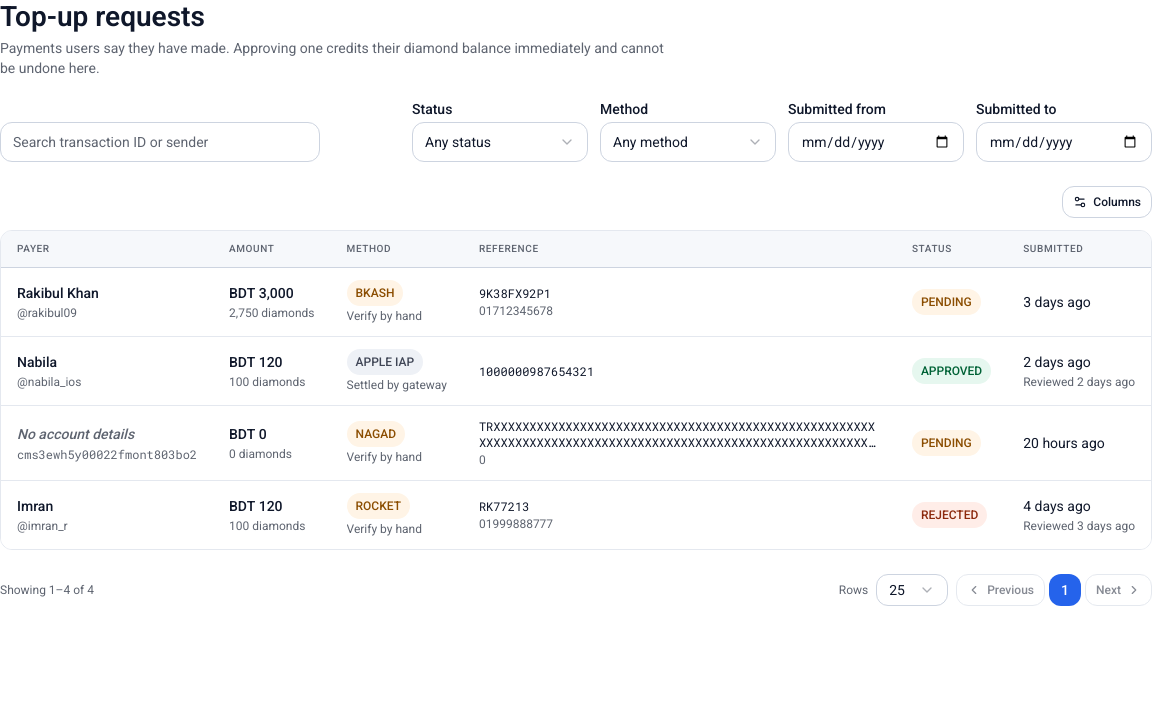
Test: the drawer › opens on a row and shows the payment
The width and height of the screenshot is (1152, 720).
Click the text "Rakibul Khan" at (58, 293), box [17,285,99,301]
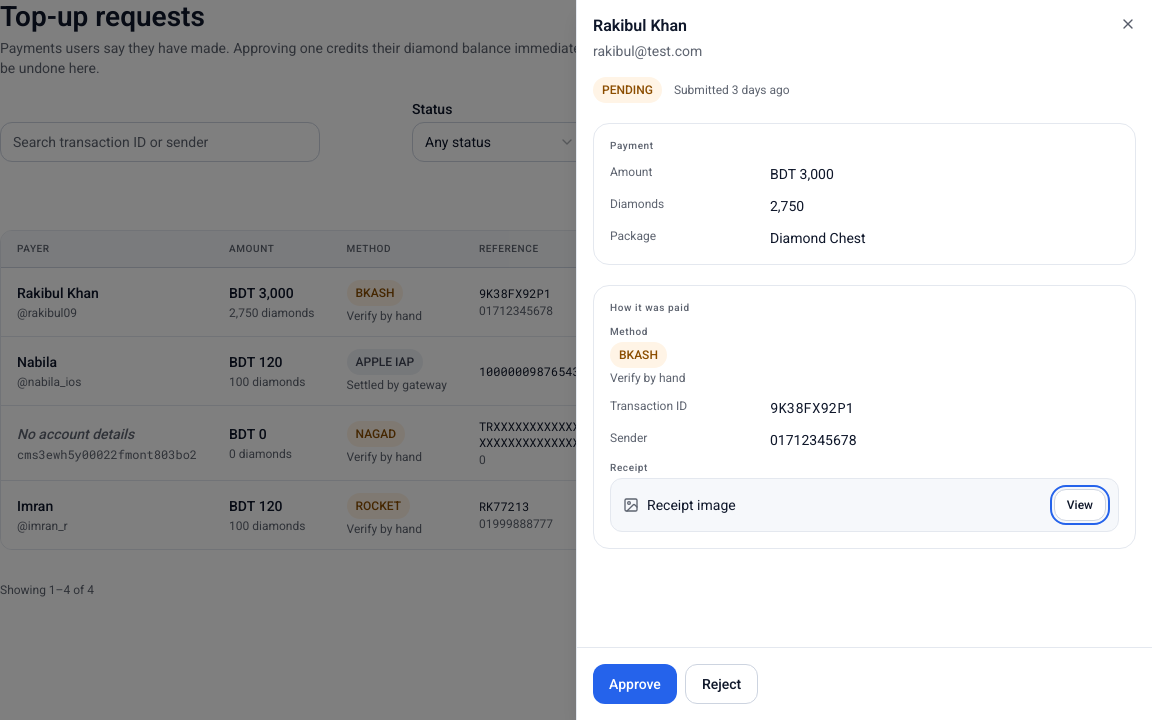
Check: the heading "Payment" is shown, box [610,140,654,151]
Check: the text "BDT 3,000" is shown, box [770,166,834,182]
Check: the text "9K38FX92P1" is shown, box [770,398,854,417]
